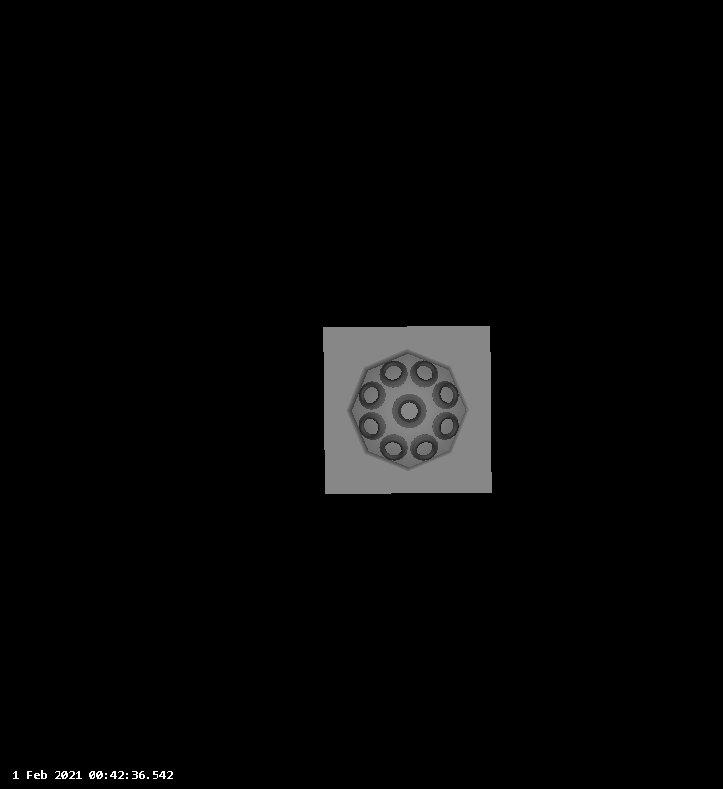body: (321, 321, 494, 498)
